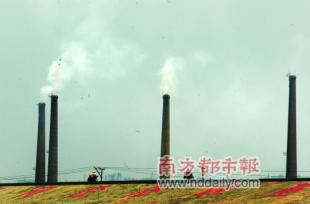dust: (28, 52, 80, 102), (153, 56, 192, 100)
